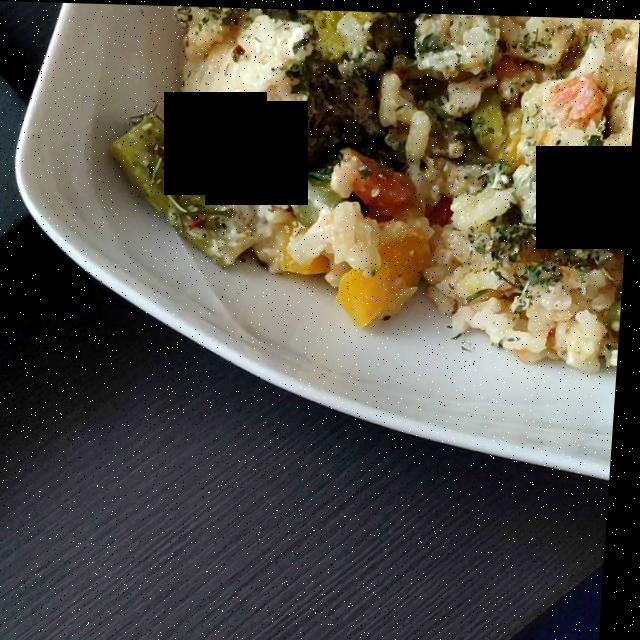mixed-vegetables: (116, 45, 561, 315)
risotto-without-cheese-cooked: (120, 11, 630, 354)
